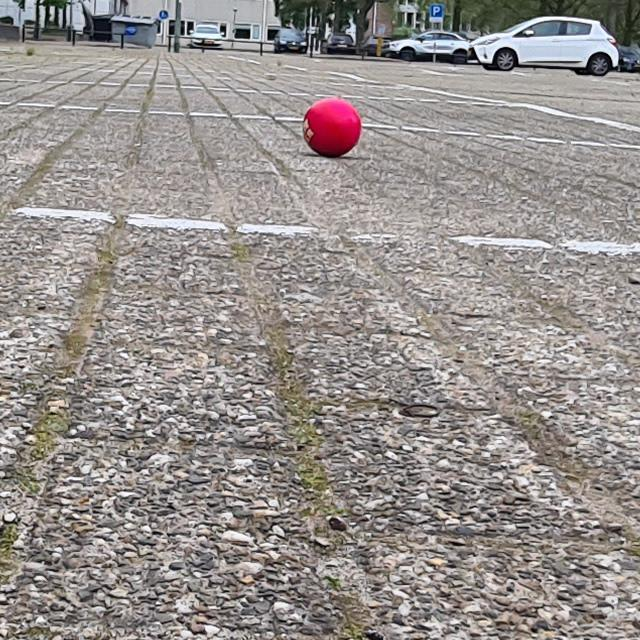ball: (300, 95, 366, 161)
